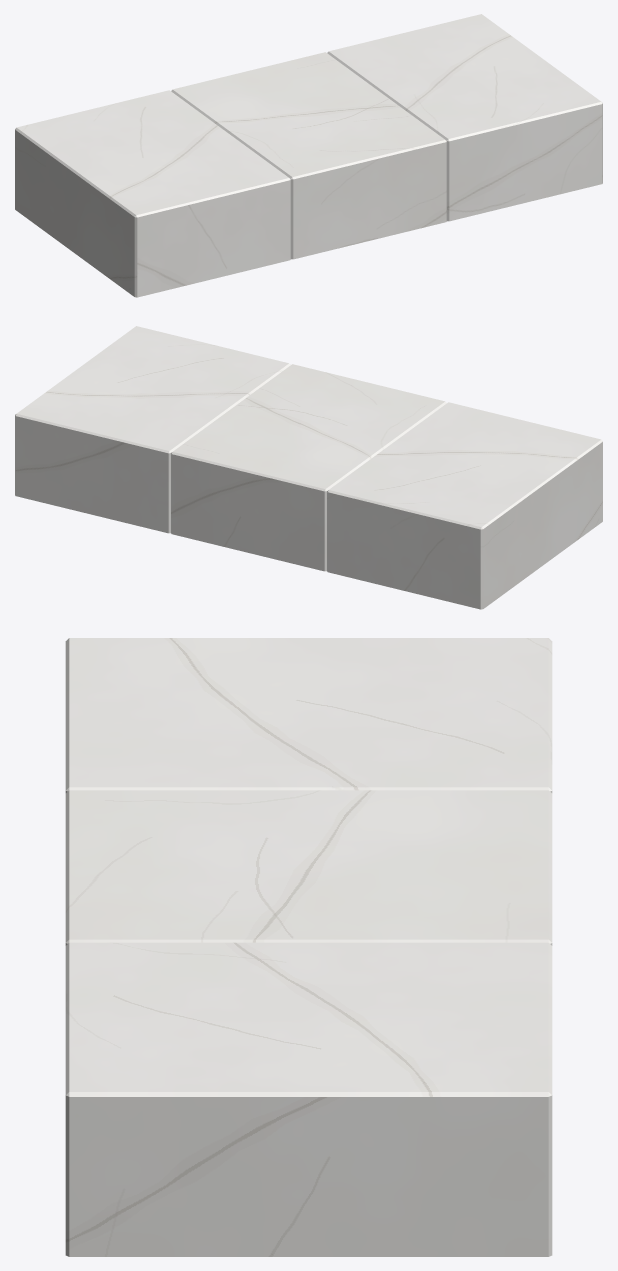
The picture shows the model from 3 angles, top to bottom: view 1: azimuth 30°, elevation 25°; view 2: azimuth 150°, elevation 25°; view 3: azimuth 270°, elevation 25°; orthographic projection. The views are drawn at different scales.
Visible parts, largest first — view 1: Mesh_step_slab; view 2: Mesh_step_slab; view 3: Mesh_step_slab.
Boxes of the visible parts, box(x1,y1,x2,y2) form: Mesh_step_slab: box(15, 14, 602, 297); Mesh_step_slab: box(15, 326, 602, 609); Mesh_step_slab: box(65, 638, 552, 1256).
Bounding box in the file's own units: 6 × 1 × 2.7.
1 material, 1 textured.
